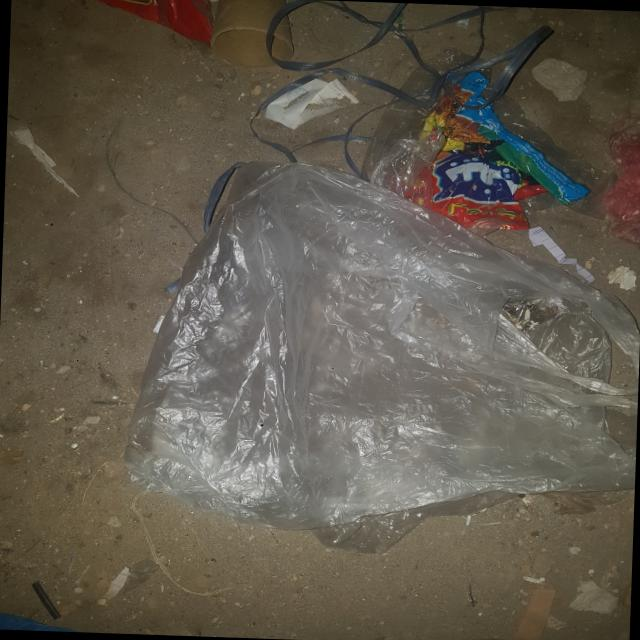electronic: (402, 146, 532, 238), (260, 72, 360, 132)
general: (118, 153, 640, 548)
